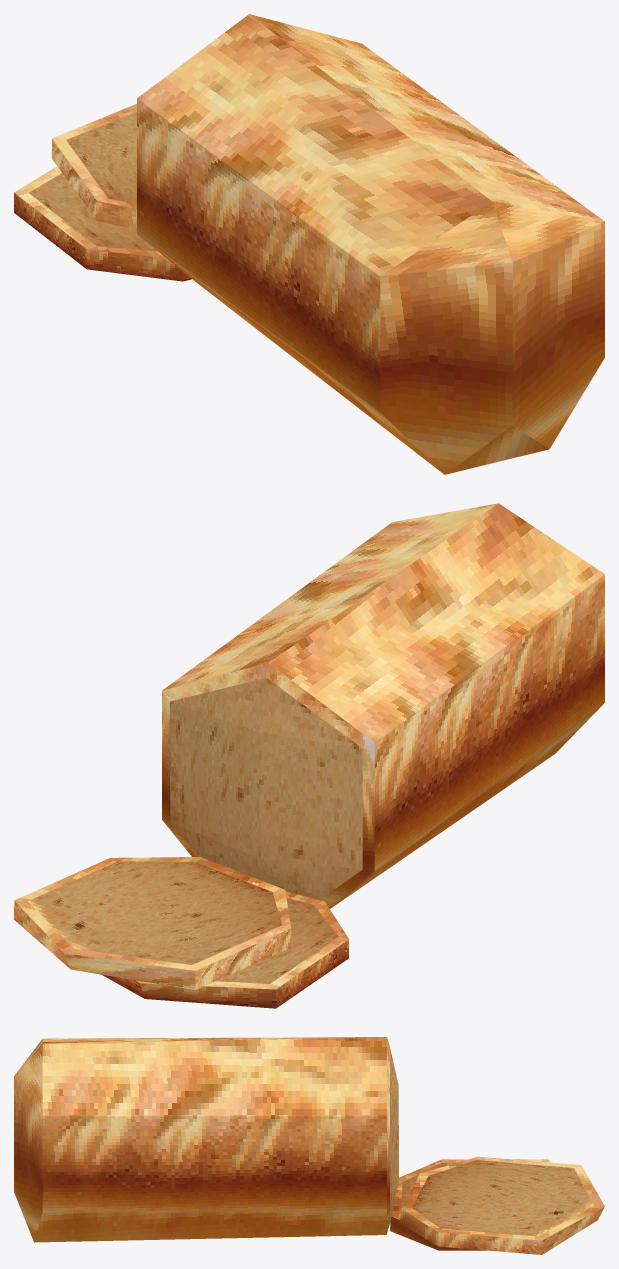
3 renders of one model, top to bottom at view 1: azimuth 30°, elevation 25°; view 2: azimuth 150°, elevation 25°; view 3: azimuth 270°, elevation 25°, orthographic. The views are drawn at different scales.
Parts seen in each view (by area): view 1: beveled_cuboid_0; view 2: beveled_cuboid_0; view 3: beveled_cuboid_0.
Part boxes in pixels (x1=…): beveled_cuboid_0: x1=14, y1=14, x2=604, y2=474; beveled_cuboid_0: x1=14, y1=503, x2=604, y2=1008; beveled_cuboid_0: x1=14, y1=1037, x2=604, y2=1254.
Bounding box in the file's own units: 1.26 × 1.13 × 3.22.
Materials: 1 (1 with a texture image).
